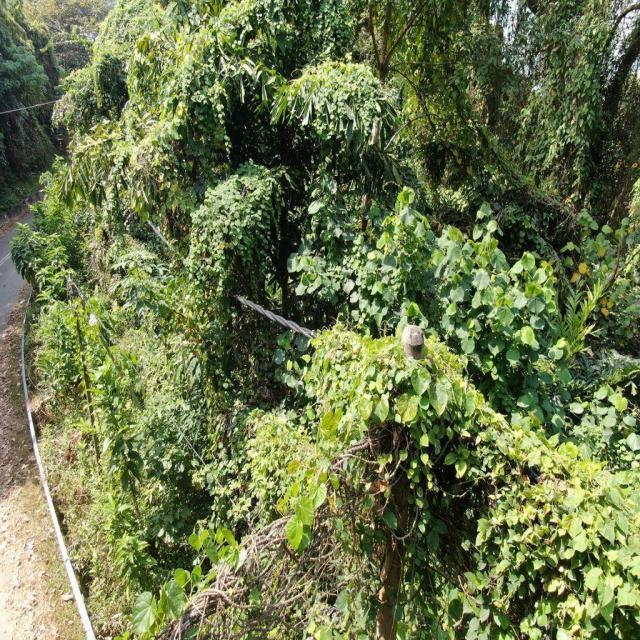critical vegetation: (234, 313, 637, 626), (167, 237, 250, 301)
